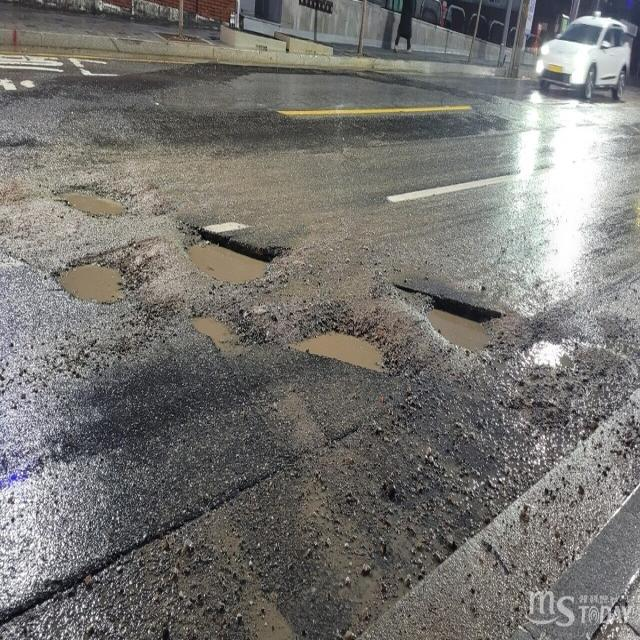pothole: (285, 305, 396, 398), (413, 274, 529, 357), (184, 213, 284, 292), (47, 253, 146, 315), (47, 156, 134, 220), (186, 311, 255, 364)
